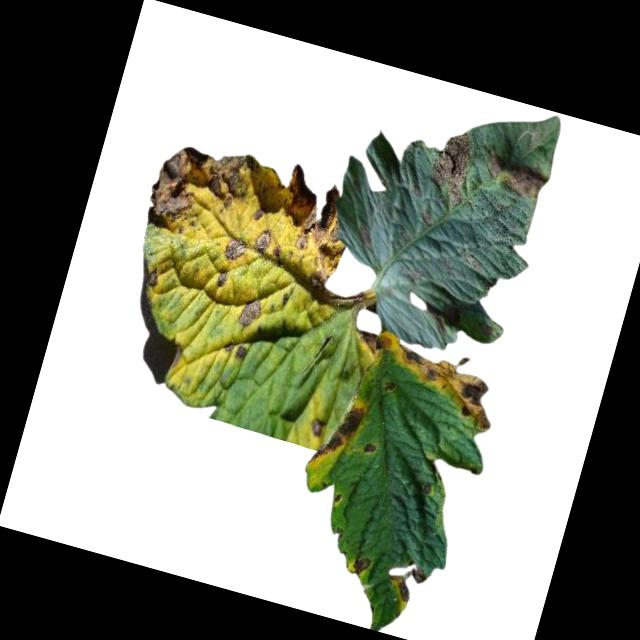Early_blight: (140, 131, 264, 252), (380, 340, 507, 436), (264, 159, 363, 274), (471, 145, 554, 206), (424, 125, 482, 208), (308, 395, 367, 473), (300, 270, 369, 317), (385, 560, 427, 607), (353, 326, 393, 364), (232, 294, 266, 332), (221, 234, 249, 263), (347, 551, 375, 579), (306, 414, 329, 440), (253, 227, 273, 252), (360, 440, 379, 461), (213, 267, 228, 292), (145, 267, 162, 287), (232, 343, 248, 362), (331, 491, 343, 508)
